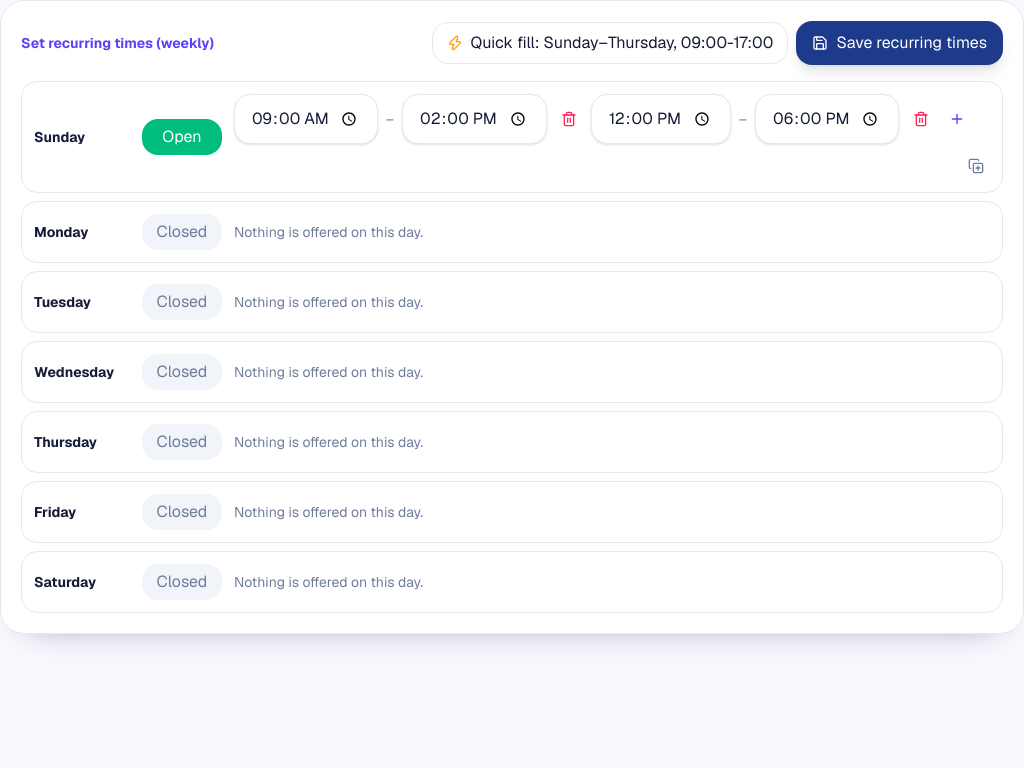
it: employee weekly hours editor › refuses overlapping windows before the round trip, naming the day
Click the button "Save recurring times" at (900, 43), box [796, 21, 1003, 65]
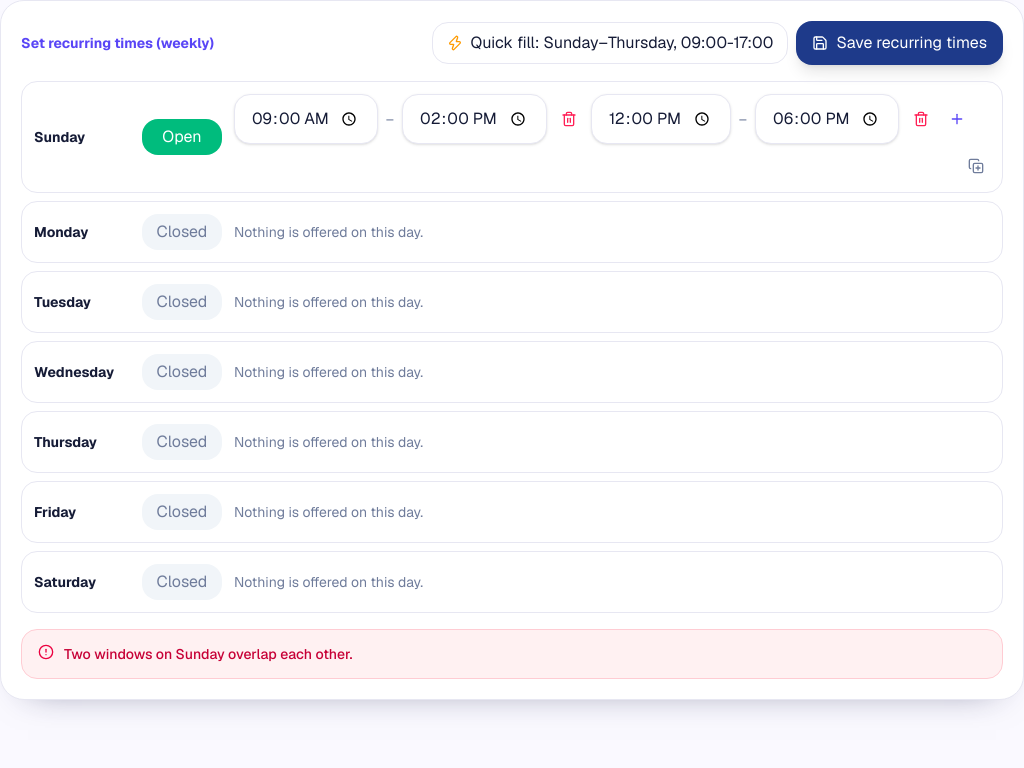
Now the message shows "Two windows on Sunday overlap", box [64, 645, 353, 663]
